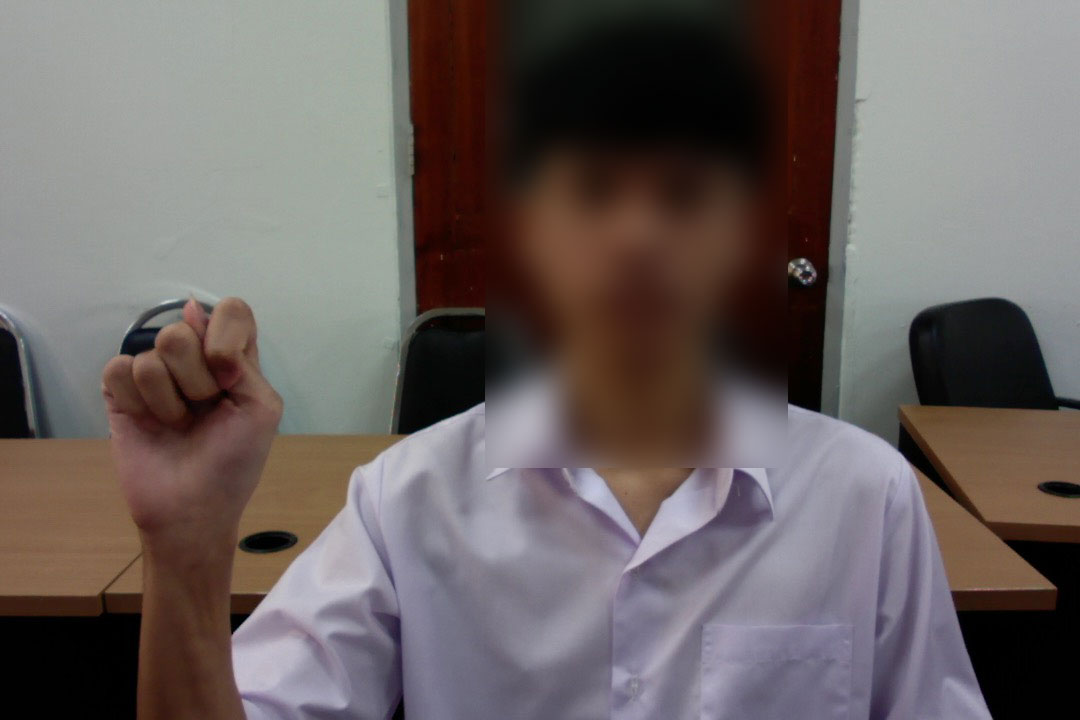tor: (96, 284, 286, 563)
